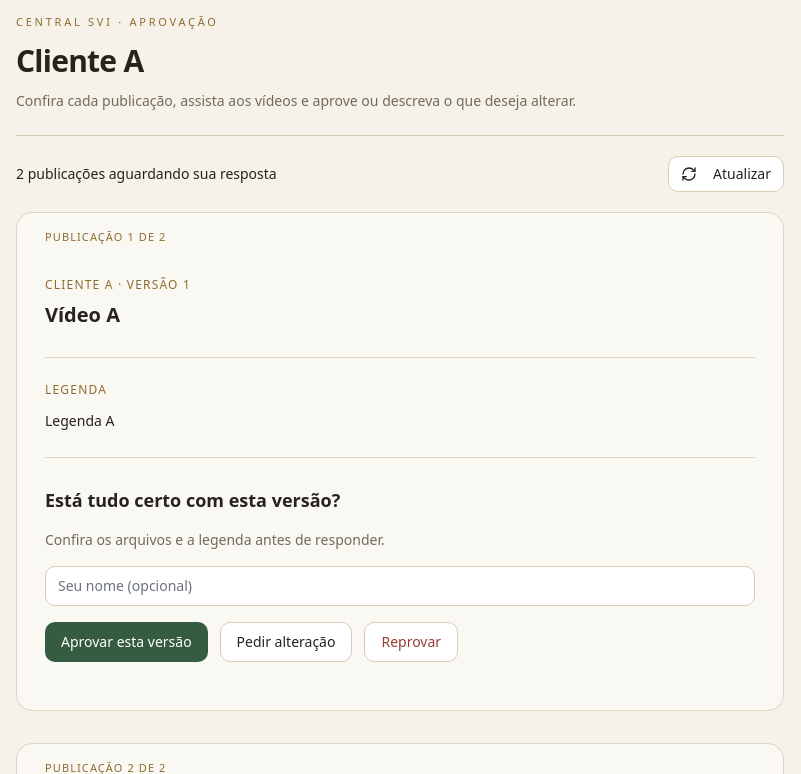
client reviews several pieces on one page › aprova num clique, sem exigir que o cliente digite o nome
Click the button "Aprovar esta versão" at (126, 642), box [45, 622, 208, 662]
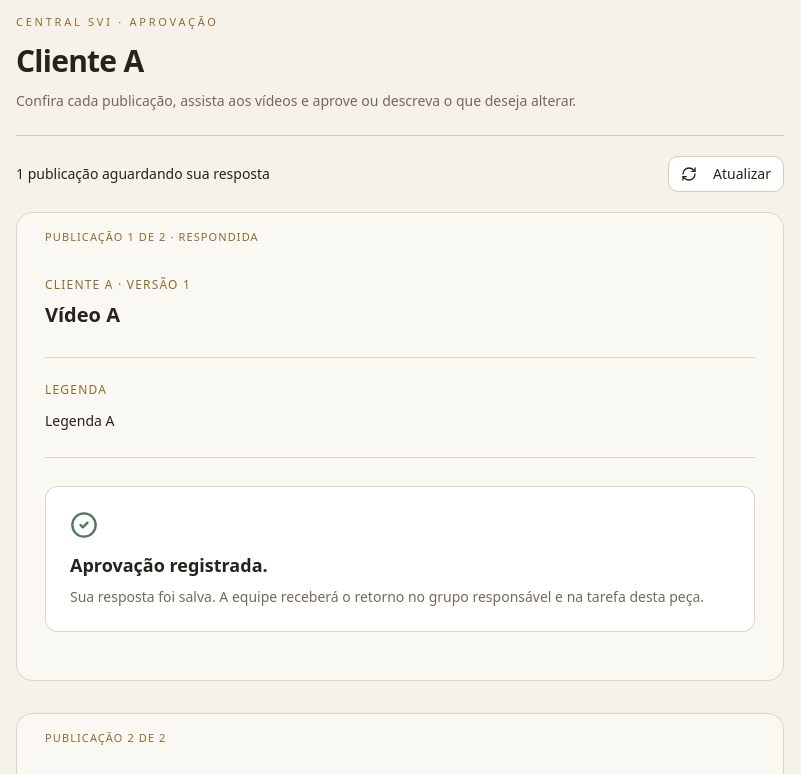
expect the heading "Aprovação registrada." is shown: met, box [70, 553, 268, 577]
